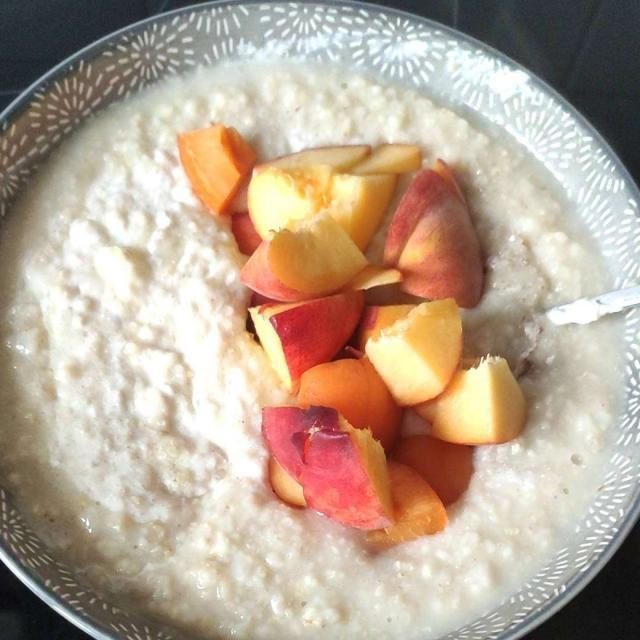apricots: (334, 305, 503, 417)
curd: (6, 66, 595, 616)
nectarine: (194, 126, 526, 540)
oats: (73, 254, 223, 504)
